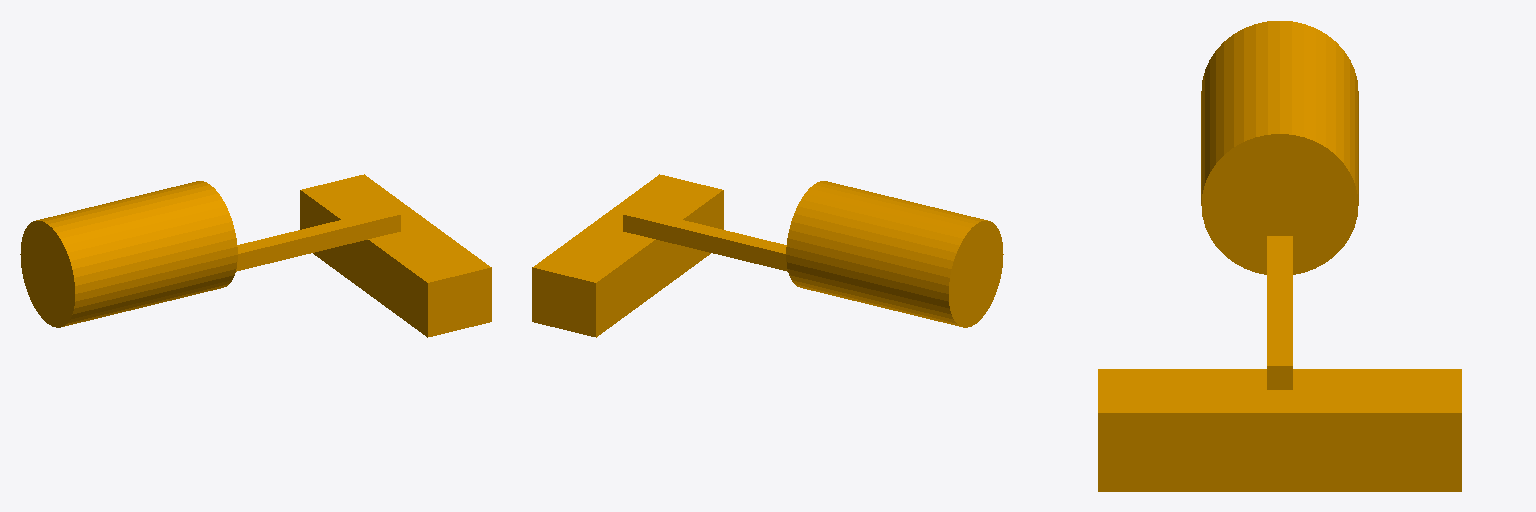
robot.urdf — brush_v3:
<?xml version='1.0' encoding='utf-8'?>
<robot name="brush_v3">
  <link name="body">
    <inertial>
      <origin xyz="0.09107218962414679 0.0 -0.021537268688122856" />
      <mass value="0.16" />
      <inertia ixx="0.0003839511961580309" iyy="0.002311519772776036" izz="0.0023716614744791692" ixy="-1.8188834909180926e-21" ixz="0.0004685126532704997" iyz="-8.099715545494631e-22" />
    </inertial>
    <collision>
      <geometry>
        <mesh filename="part_00.obj" />
      </geometry>
    </collision>
    <collision>
      <geometry>
        <mesh filename="part_01.obj" />
      </geometry>
    </collision>
    <collision>
      <geometry>
        <mesh filename="part_02.obj" />
      </geometry>
    </collision>
    <visual>
      <geometry>
        <mesh filename="visual.obj" />
      </geometry>
    </visual>
  </link>
</robot>

--- Render facts (derived) ---
The picture shows the robot from 3 angles, left to right: view 1: azimuth 30°, elevation 25°; view 2: azimuth 150°, elevation 25°; view 3: azimuth 270°, elevation 25°; orthographic projection.
Model brush_v3 with 1 links and 0 joints (none), rooted at body, posed every joint at zero.
Links seen in each view (by area): view 1: body; view 2: body; view 3: body.
Link boxes in pixels (bbox=[...]): body: bbox=[20, 174, 491, 337]; body: bbox=[532, 174, 1003, 337]; body: bbox=[1098, 21, 1461, 491].
Size in the robot's own frame: 0.3275 by 0.19 by 0.1185 metres.
1 mesh visuals loaded from 1 distinct referenced files (1 OBJ).
